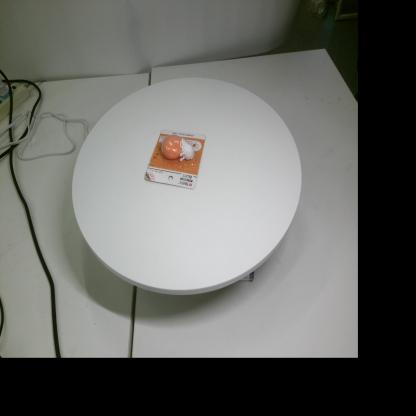Stationery: (144, 130, 206, 190)
